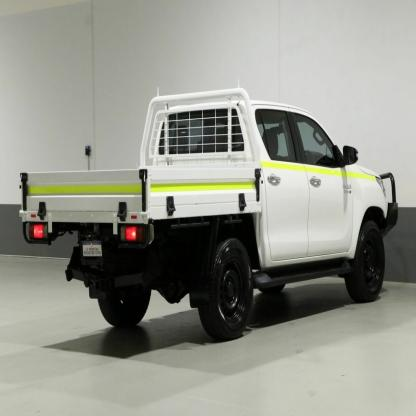light_vehicle: (11, 66, 412, 334)
